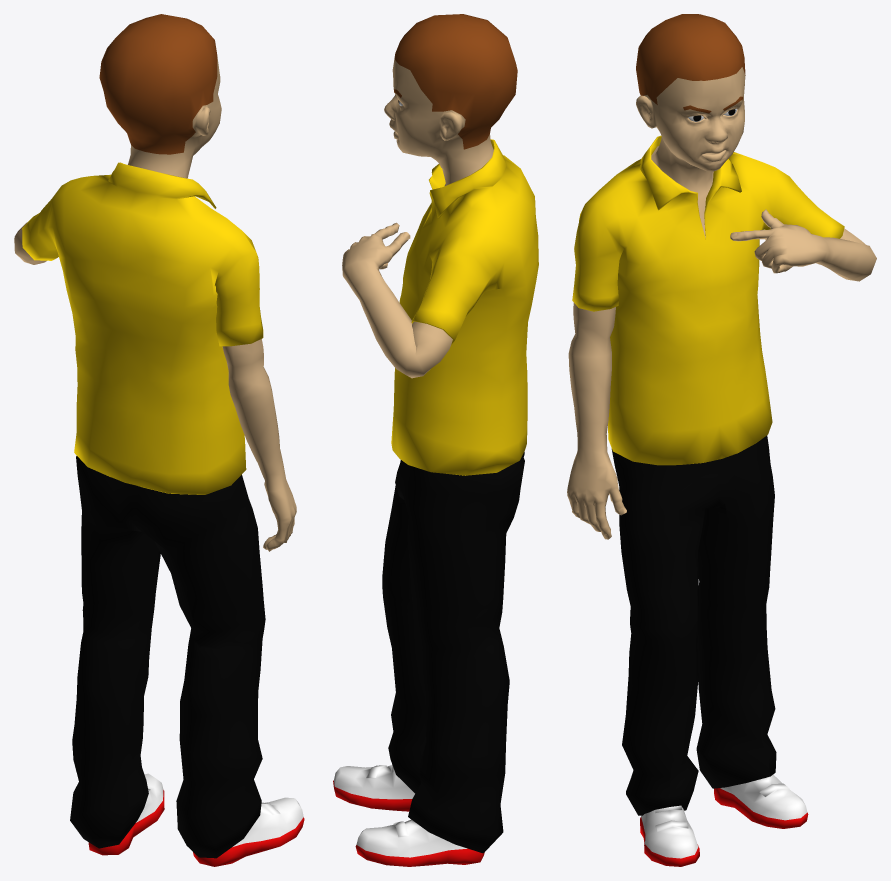
The model's file is niño.fbx.
3 views of the same model, side by side, from view 1: azimuth 30°, elevation 25°; view 2: azimuth 150°, elevation 25°; view 3: azimuth 270°, elevation 25° (orthographic). The views are drawn at different scales.
Visible parts, largest first — view 1: SPT_01Persona0302_1; view 2: SPT_01Persona0302_1; view 3: SPT_01Persona0302_1.
Boxes of the visible parts, box(x1,y1,x2,y2) form: SPT_01Persona0302_1: box(14, 14, 304, 866); SPT_01Persona0302_1: box(333, 14, 538, 866); SPT_01Persona0302_1: box(567, 14, 876, 866).
Size of the model in its own units: 0.3927 by 1.45 by 0.5123.
